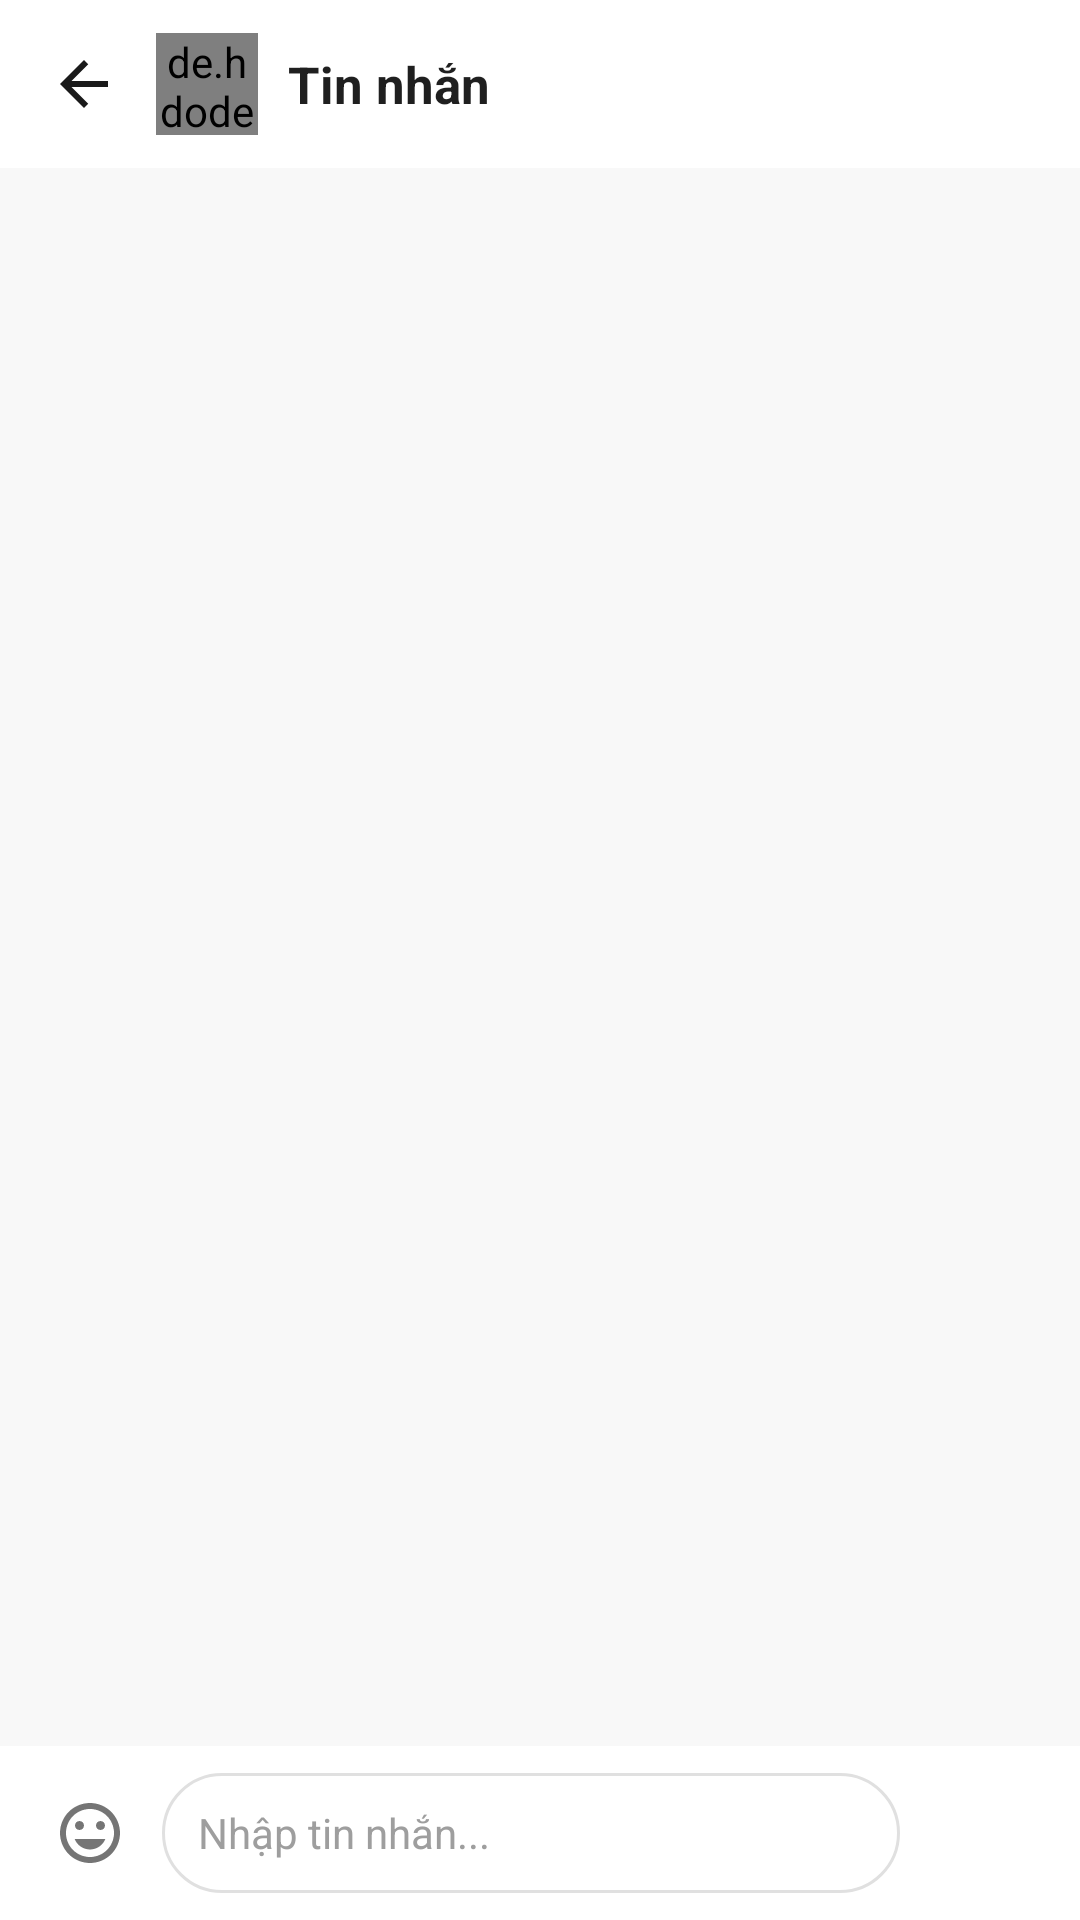

Named icons in this screenshot (1080x1920) and their centers, point (x, y):
Chọn biểu tượng cảm xúc: point (90, 1833)
Quay lại: point (84, 84)
